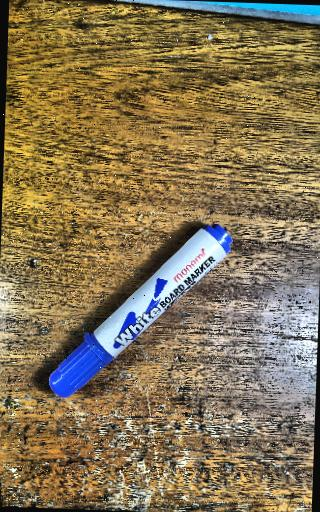marcador azul: (48, 224, 232, 398)
